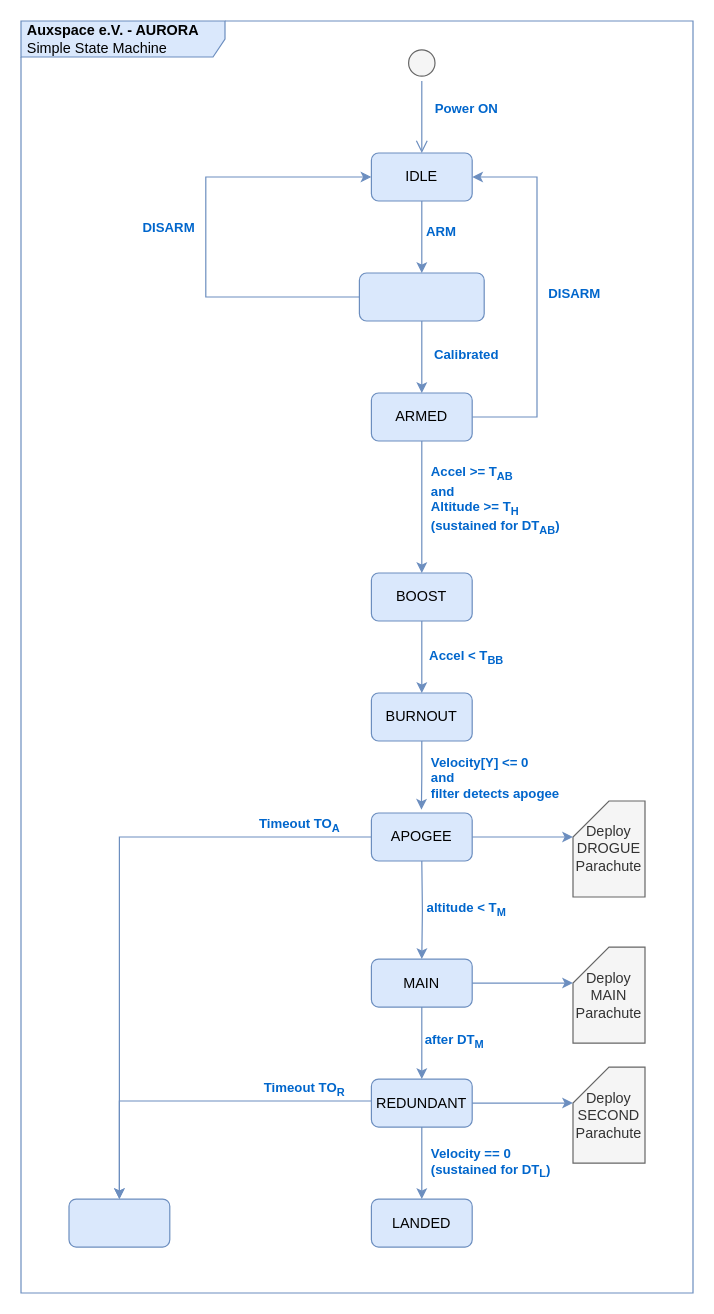
The diagram is 714 pixels wide and 1314 high, and some of its shapes have lost their labels. Here are the shapes that lost their labels. From the top down, the box of each, then its label:
(358, 272, 484, 321): CALIBRATING
(68, 1198, 170, 1247): ERROR
